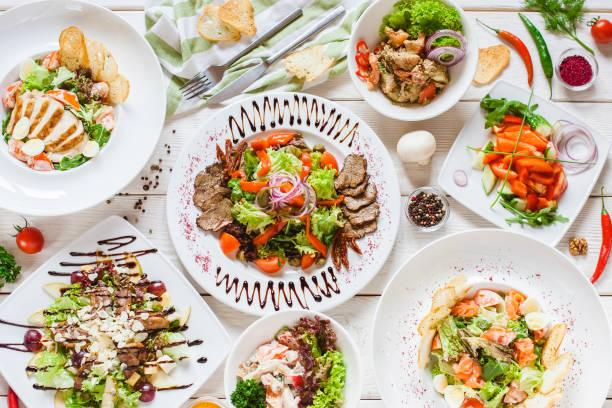Braised Crucian Carp: (166, 90, 393, 313), (0, 216, 231, 408), (371, 228, 610, 406), (1, 0, 165, 218), (434, 79, 608, 245), (346, 1, 471, 124)
